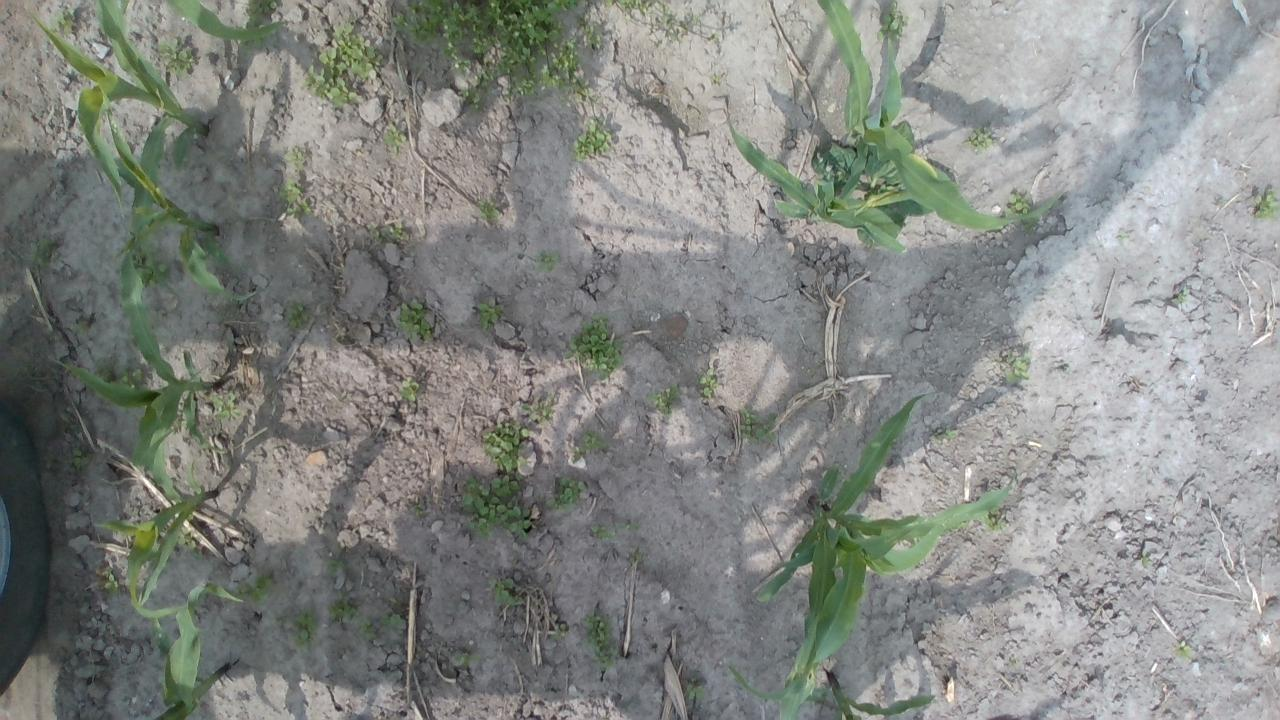Maize: (754, 394, 1016, 720), (817, 0, 1068, 233), (31, 0, 208, 292), (57, 243, 270, 478), (94, 80, 259, 301), (715, 84, 910, 255), (96, 426, 216, 623), (145, 582, 244, 720), (724, 659, 935, 720), (112, 0, 293, 42)
Weeds: (392, 0, 606, 105), (302, 20, 384, 112), (461, 474, 534, 543), (562, 312, 624, 382), (481, 422, 531, 474), (327, 592, 378, 640), (582, 607, 620, 671), (121, 242, 170, 288), (572, 116, 614, 162), (397, 300, 435, 346), (543, 475, 586, 512), (738, 407, 778, 445), (1006, 190, 1040, 234), (158, 38, 196, 76), (876, 0, 906, 48), (290, 607, 322, 651), (272, 179, 308, 217), (658, 0, 689, 42), (646, 383, 680, 418), (231, 575, 272, 604), (486, 576, 524, 607), (244, 0, 280, 30), (880, 200, 924, 224), (574, 430, 609, 460), (210, 386, 240, 419), (965, 125, 999, 154), (520, 394, 554, 422), (1004, 351, 1030, 386), (1253, 188, 1280, 221), (29, 238, 58, 266), (64, 447, 94, 474), (692, 368, 718, 399), (382, 124, 408, 154), (478, 302, 504, 332), (118, 364, 146, 391), (286, 302, 312, 330), (178, 530, 202, 560), (979, 509, 1007, 534), (461, 86, 487, 112), (51, 8, 77, 34), (399, 376, 424, 403), (534, 248, 560, 272), (381, 220, 408, 241), (620, 0, 654, 16), (94, 358, 116, 382), (590, 522, 616, 542), (809, 150, 827, 178), (72, 318, 97, 338), (450, 652, 480, 668), (931, 426, 957, 444), (103, 568, 119, 597), (686, 677, 706, 700), (322, 558, 346, 577), (856, 227, 875, 250), (382, 606, 402, 627), (478, 199, 498, 220), (285, 146, 305, 166), (1174, 640, 1192, 660), (812, 686, 834, 702), (551, 624, 567, 642), (366, 223, 382, 241), (239, 38, 265, 49), (1176, 286, 1191, 305), (628, 550, 642, 568), (1140, 550, 1154, 568), (66, 362, 82, 376), (222, 254, 238, 268), (408, 502, 424, 514), (708, 29, 721, 43), (952, 519, 969, 529), (623, 522, 640, 530), (182, 156, 193, 168), (1116, 231, 1129, 240), (712, 73, 721, 83), (604, 0, 614, 6)
